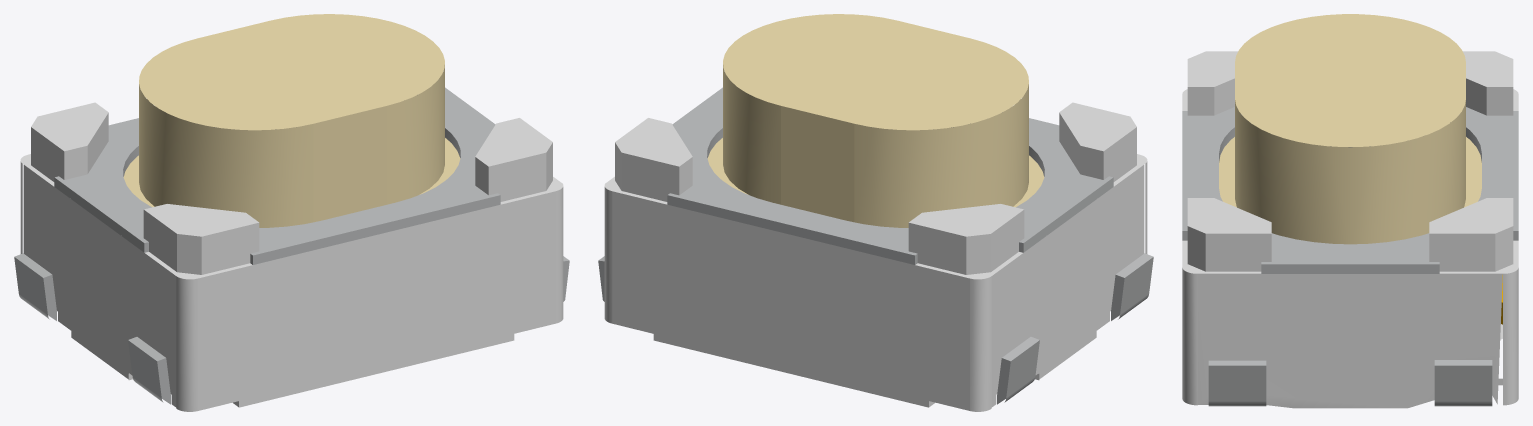
The model's file is sfe-push_smd_4.2x3.2mm_h2.5mm_biege.glb.
The picture shows the model from 3 angles, left to right: view 1: azimuth 30°, elevation 25°; view 2: azimuth 150°, elevation 25°; view 3: azimuth 270°, elevation 25°; orthographic projection.
Visible parts, largest first — view 1: 0.8333333333333334_0.8333333333333334_0.8333333333333334_0.8, 0.8333333333333334_0.75_0.4166666666666667_0.9, 0.5_0.5_0.5_0.85, 0.75_0.75_0.75_0.85; view 2: 0.8333333333333334_0.8333333333333334_0.8333333333333334_0.8, 0.8333333333333334_0.75_0.4166666666666667_0.9, 0.5_0.5_0.5_0.85, 0.75_0.75_0.75_0.85; view 3: 0.8333333333333334_0.75_0.4166666666666667_0.9, 0.8333333333333334_0.8333333333333334_0.8333333333333334_0.8, 0.5_0.5_0.5_0.85, 0.75_0.75_0.75_0.85.
Boxes of the visible parts, x1,y1,x2,y2 form: 0.8333333333333334_0.8333333333333334_0.8333333333333334_0.8: (20,154,563,411); 0.8333333333333334_0.75_0.4166666666666667_0.9: (123,14,460,227); 0.5_0.5_0.5_0.85: (14,87,569,404); 0.75_0.75_0.75_0.85: (31,102,552,274); 0.8333333333333334_0.8333333333333334_0.8333333333333334_0.8: (604,154,1147,411); 0.8333333333333334_0.75_0.4166666666666667_0.9: (707,14,1044,227); 0.5_0.5_0.5_0.85: (598,87,1153,404); 0.75_0.75_0.75_0.85: (615,102,1136,274); 0.8333333333333334_0.75_0.4166666666666667_0.9: (1219,14,1481,244); 0.8333333333333334_0.8333333333333334_0.8333333333333334_0.8: (1182,89,1518,408); 0.5_0.5_0.5_0.85: (1182,107,1518,406); 0.75_0.75_0.75_0.85: (1187,51,1513,339).
Size of the model in its own units: 0.45 by 0.25 by 0.32.
